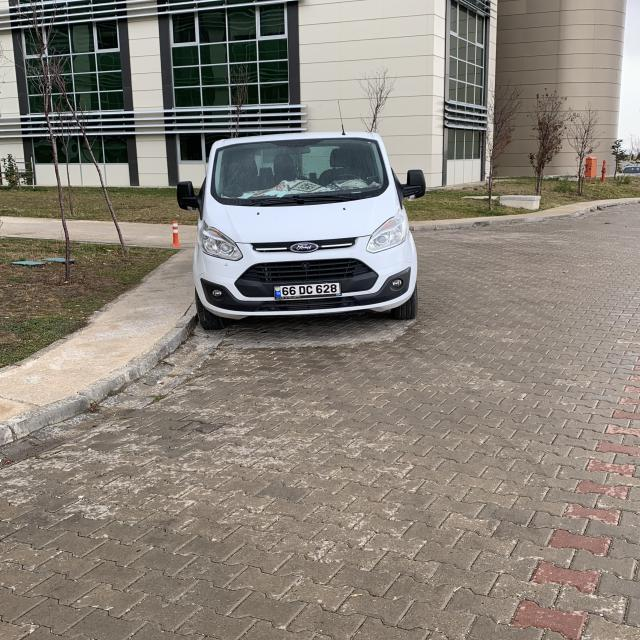license_plate: (274, 282, 341, 296)
